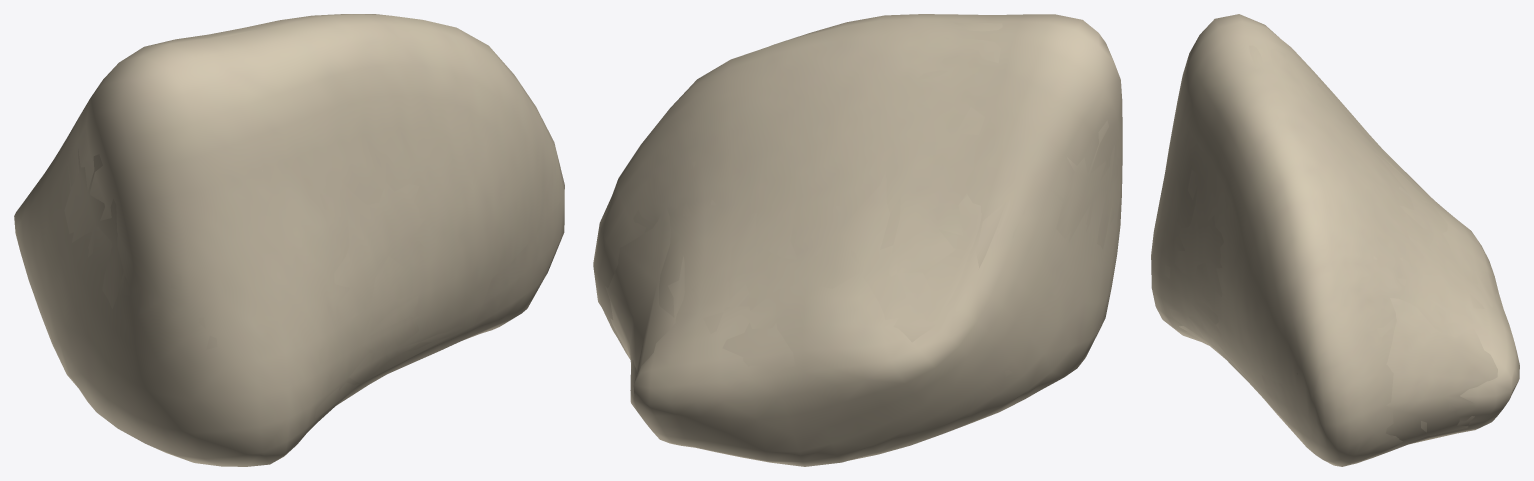
Rendered from R carpale primum.fbx.
3 renders of one model, left to right at view 1: azimuth 30°, elevation 25°; view 2: azimuth 150°, elevation 25°; view 3: azimuth 270°, elevation 25°, orthographic. The views are drawn at different scales.
Visible parts, largest first — view 1: R carpale primum high, R carpale primum, R carpale primum low; view 2: R carpale primum high, R carpale primum, R carpale primum low; view 3: R carpale primum high, R carpale primum low, R carpale primum.
Boxes of the visible parts, x1=… form: R carpale primum high: x1=14, y1=14, x2=564, y2=466; R carpale primum: x1=44, y1=139, x2=548, y2=431; R carpale primum low: x1=98, y1=29, x2=450, y2=428; R carpale primum high: x1=593, y1=14, x2=1122, y2=466; R carpale primum: x1=633, y1=37, x2=1114, y2=409; R carpale primum low: x1=605, y1=22, x2=1006, y2=373; R carpale primum high: x1=1151, y1=14, x2=1519, y2=466; R carpale primum low: x1=1179, y1=45, x2=1497, y2=446; R carpale primum: x1=1164, y1=48, x2=1497, y2=444.
Bounding box in the file's own units: 1.74 × 1.36 × 1.47.
Materials: 1 (1 with a texture image).
